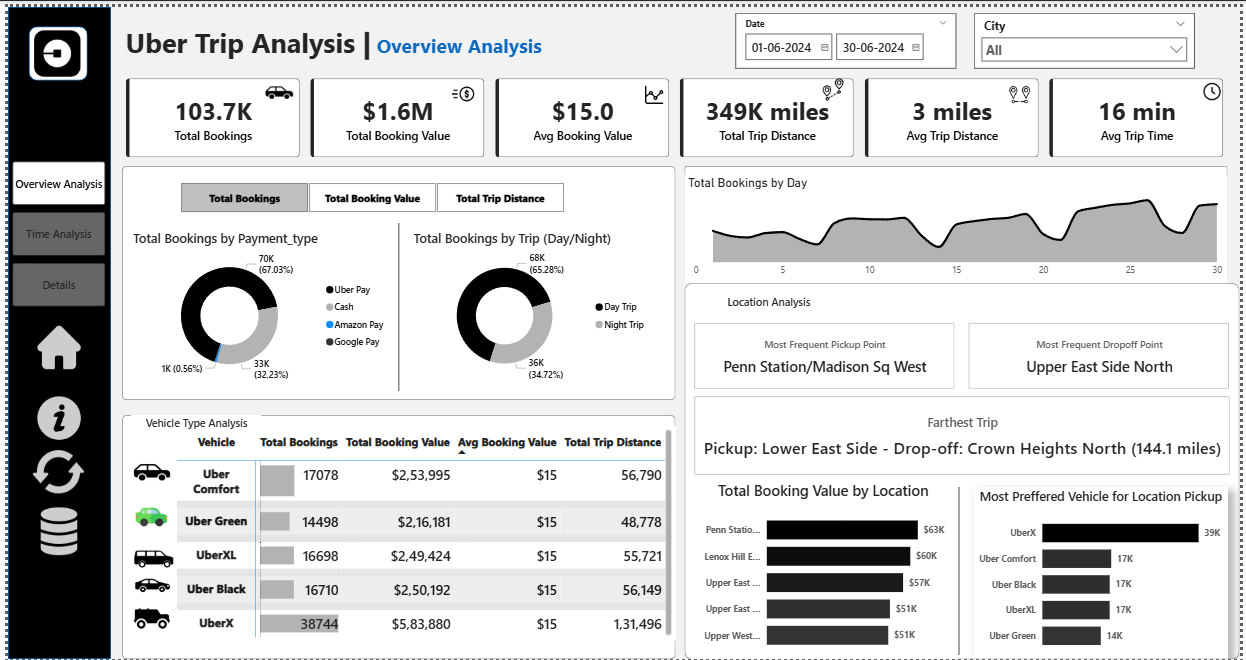

The dashboard page shown, as its layout file describes it:
{"tool":"powerbi","page":{"name":"Overview Analysis","canvas":[1700,900],"ordinal":0},"visuals":[{"type":"shape","box":[157.4,219.5,764.1,323],"z":0},{"type":"shape","box":[0,0,142,900],"z":1000},{"type":"textbox","box":[157.7,17.7,607.7,66.9],"z":2000},{"type":"cardVisual","fields":{"Data":["Trip Details.Total Bookings","Trip Details.Total Booking Amount","Trip Details.Avg Booking Amount","Trip Details.Total Trip Distance","Trip Details.Avg Trip Distance","Trip Details.Avg Trip Time"]},"box":[158,93.1,1526.1,119.1],"z":3000},{"type":"image","box":[593.1,99.6,71.4,41.1],"z":4000},{"type":"image","box":[1095.3,93.1,88.8,41.1],"z":5000},{"type":"image","box":[1355.1,101.7,84.4,39],"z":6000},{"type":"image","box":[1625.7,99.6,73.6,34.6],"z":7000},{"type":"shape","box":[933.8,381,766.1,519.7],"z":8000},{"type":"image","box":[850.7,101.7,82.3,39],"z":9000},{"type":"image","box":[316,93.1,114.7,49.8],"z":10000},{"type":"slicer","fields":{"Values":["Parameter.Parameter"]},"box":[213.3,236,577.7,53.8],"z":11000},{"type":"donutChart","fields":{"Y":["Trip Details.Total Bookings"],"Category":["Trip Details.Payment_type"]},"box":[167.7,306.4,364.4,215.3],"z":12000},{"type":"donutChart","fields":{"Y":["Trip Details.Total Bookings"],"Category":["Trip Details.Trip Type (Day/Night)"]},"box":[554.9,306.4,337.5,215.3],"z":13000},{"type":"shape","box":[157.4,563.2,764,337],"z":14000},{"type":"pivotTable","fields":{"Rows":["Trip Details.Vehicle"],"Values":["Trip Details.Total Bookings","Trip Details.Total Booking Value","Trip Details.Avg Booking Value","Trip Details.Total Trip Distance Measure"]},"box":[227.8,577.7,693.7,296.1],"z":15000},{"type":"image","box":[126.3,677.1,142.9,53.8],"z":16000},{"type":"image","box":[131.9,766.1,134.6,64.2],"z":17000},{"type":"image","box":[101.9,610.8,194.6,62.1],"z":18000},{"type":"image","box":[126.3,726.8,149.1,70.4],"z":19000},{"type":"image","box":[145.4,813.7,107.7,60],"z":20000},{"type":"card","fields":{"Values":["Trip Details.Title for Grid"]},"box":[169.8,563.2,180.1,26.9],"z":21000},{"type":"shape","box":[933.8,219.5,749.6,161.5],"z":22000},{"type":"areaChart","fields":{"Category":["Calendar Table.Date.Variation.Date Hierarchy.Day"],"Y":["Trip Details.Total Bookings"]},"box":[933.8,231.9,749.6,149.1],"z":23000},{"type":"cardVisual","fields":{"Data":["Trip Details.Most Frequent Pickup Point","Trip Details.Most Frequent Dropoff Point"]},"box":[942.1,430.7,749.6,101.5],"z":24000},{"type":"cardVisual","fields":{"Data":["Trip Details.Farthest Trip"]},"box":[942.1,532.1,749.6,118],"z":25000},{"type":"barChart","fields":{"Category":["Location Table.Location"],"Y":["Trip Details.Total Booking Value"]},"box":[942.1,654.3,366.5,246.4],"z":26000},{"type":"barChart","title":"Most Preffered Vehicle for Location Pickup","fields":{"Category":["Trip Details.Vehicle"],"Y":["Trip Details.Total Bookings"]},"box":[1333.5,662.6,349.9,238.1],"z":27000},{"type":"shape","box":[494.9,298.2,89,231.9],"z":28000},{"type":"shape","box":[1271.3,662.6,82.8,231.9],"z":29000},{"type":"card","fields":{"Values":["Trip Details.Title for Location"]},"box":[946.3,387.2,207.1,43.5],"z":30000},{"type":"slicer","fields":{"Values":["Calendar Table.Date"]},"box":[1004.2,8.3,304.4,76.6],"z":31000},{"type":"slicer","fields":{"Values":["Location Table.City"]},"box":[1333.5,8.3,304.4,76.6],"z":32000},{"type":"shape","box":[29,26.9,80.8,74.5],"z":33000},{"type":"image","box":[20.7,26.9,95.2,74.5],"z":34000},{"type":"pageNavigator","box":[6.2,213.3,128.4,200.8],"z":35000},{"type":"image","box":[35.2,430.7,70.4,78.7],"z":36000},{"type":"image","box":[35.2,532.1,70.4,70.4],"z":37000},{"type":"image","box":[29,594.3,80.8,95.2],"z":38000},{"type":"image","box":[20.7,685.4,99.4,76.6],"z":39000}]}

Visuals, with their boxes on the page's 1700x900 design canvas (x1, y1, x2, y2). These are canvas units, not pixel positions in the 1246x660 screenshot, which may show the page scaled, cropped or inside an application window:
shape: (left=157, top=220, right=922, bottom=542)
shape: (left=0, top=0, right=142, bottom=900)
textbox: (left=158, top=18, right=765, bottom=85)
cardVisual - Trip Details.Total Bookings x Trip Details.Total Booking Amount: (left=158, top=93, right=1684, bottom=212)
image: (left=593, top=100, right=664, bottom=141)
image: (left=1095, top=93, right=1184, bottom=134)
image: (left=1355, top=102, right=1440, bottom=141)
image: (left=1626, top=100, right=1699, bottom=134)
shape: (left=934, top=381, right=1700, bottom=901)
image: (left=851, top=102, right=933, bottom=141)
image: (left=316, top=93, right=431, bottom=143)
slicer - Parameter.Parameter: (left=213, top=236, right=791, bottom=290)
donutChart - Trip Details.Total Bookings x Trip Details.Payment_type: (left=168, top=306, right=532, bottom=522)
donutChart - Trip Details.Total Bookings x Trip Details.Trip Type (Day/Night): (left=555, top=306, right=892, bottom=522)
shape: (left=157, top=563, right=921, bottom=900)
pivotTable - Trip Details.Vehicle x Trip Details.Total Bookings: (left=228, top=578, right=922, bottom=874)
image: (left=126, top=677, right=269, bottom=731)
image: (left=132, top=766, right=266, bottom=830)
image: (left=102, top=611, right=296, bottom=673)
image: (left=126, top=727, right=275, bottom=797)
image: (left=145, top=814, right=253, bottom=874)
card - Trip Details.Title for Grid: (left=170, top=563, right=350, bottom=590)
shape: (left=934, top=220, right=1683, bottom=381)
areaChart - Calendar Table.Date.Variation.Date Hierarchy.Day x Trip Details.Total Bookings: (left=934, top=232, right=1683, bottom=381)
cardVisual - Trip Details.Most Frequent Pickup Point x Trip Details.Most Frequent Dropoff Point: (left=942, top=431, right=1692, bottom=532)
cardVisual - Trip Details.Farthest Trip: (left=942, top=532, right=1692, bottom=650)
barChart - Location Table.Location x Trip Details.Total Booking Value: (left=942, top=654, right=1309, bottom=901)
"Most Preffered Vehicle for Location Pickup" barChart: (left=1334, top=663, right=1683, bottom=901)
shape: (left=495, top=298, right=584, bottom=530)
shape: (left=1271, top=663, right=1354, bottom=894)
card - Trip Details.Title for Location: (left=946, top=387, right=1153, bottom=431)
slicer - Calendar Table.Date: (left=1004, top=8, right=1309, bottom=85)
slicer - Location Table.City: (left=1334, top=8, right=1638, bottom=85)
shape: (left=29, top=27, right=110, bottom=101)
image: (left=21, top=27, right=116, bottom=101)
pageNavigator: (left=6, top=213, right=135, bottom=414)
image: (left=35, top=431, right=106, bottom=509)
image: (left=35, top=532, right=106, bottom=602)
image: (left=29, top=594, right=110, bottom=690)
image: (left=21, top=685, right=120, bottom=762)
